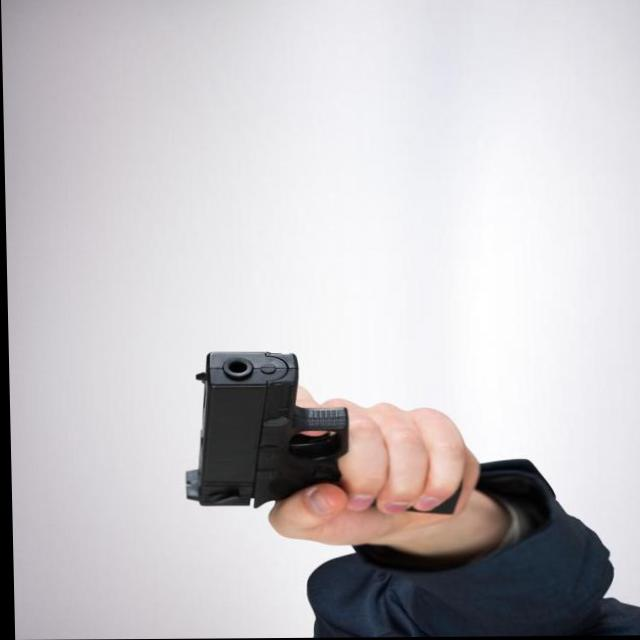handgun: (174, 347, 457, 515)
